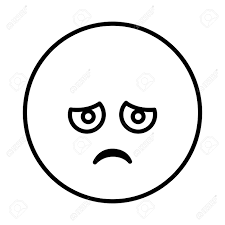triste: (11, 15, 206, 200), (61, 86, 165, 173)
